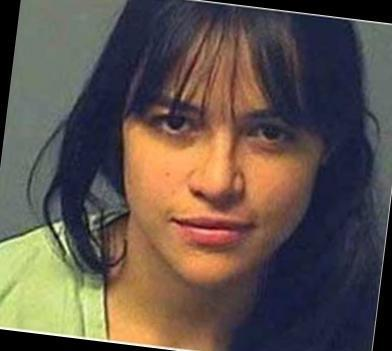Drunk: (130, 40, 314, 283)
